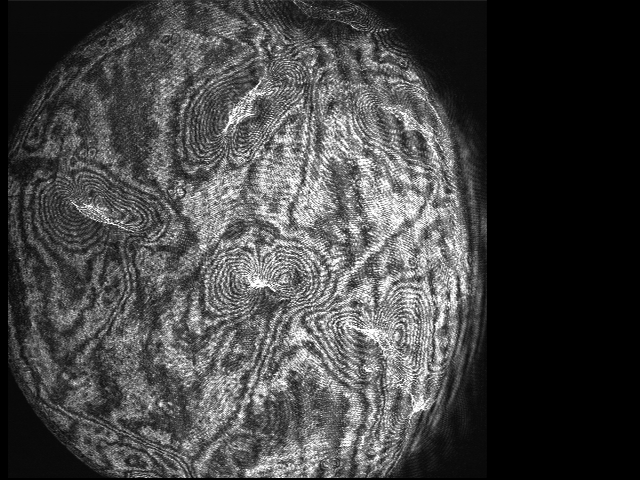plume: (189, 66, 305, 165), (37, 167, 171, 246), (206, 242, 323, 307)
